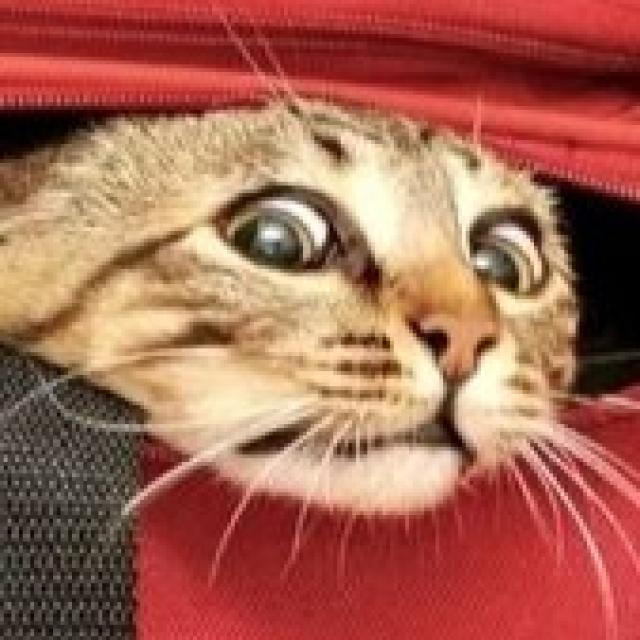Surprised: (164, 145, 572, 499)
